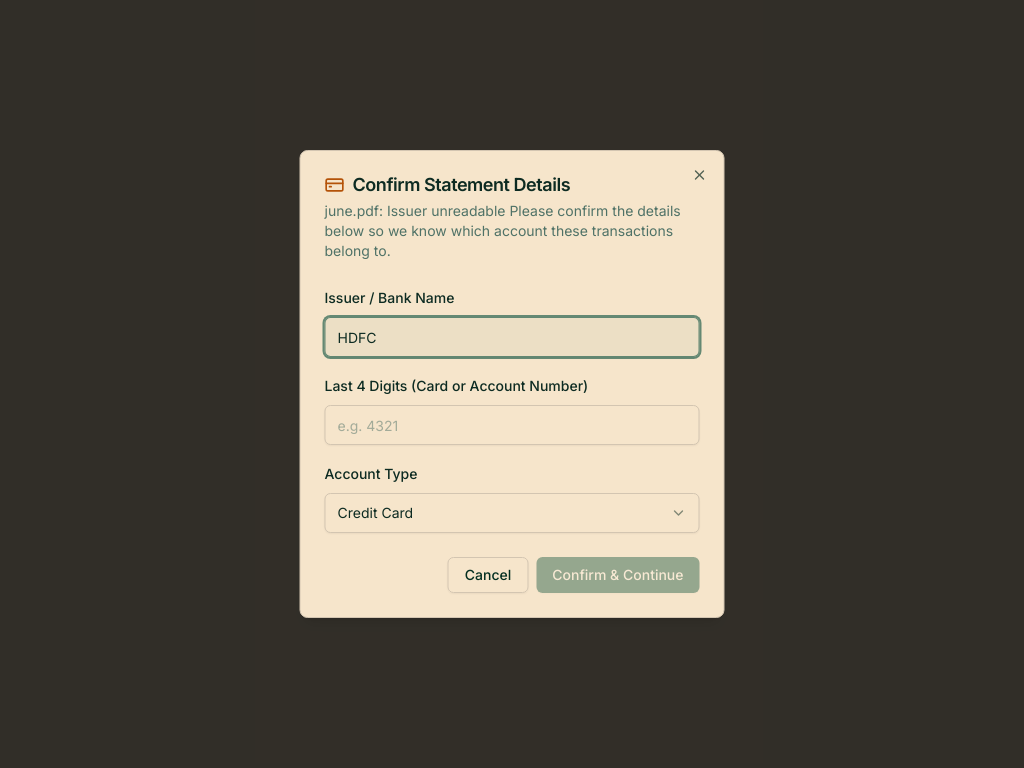
it: InstrumentGateDialog › strips non-digits out of the last-4 field
The image size is (1024, 768).
Type "ab12cd34" into the field labelled "Last 4 Digits (Card or Account Number)".
click(512, 425); type("ab12cd34")  # box left=324, top=405, right=700, bottom=445
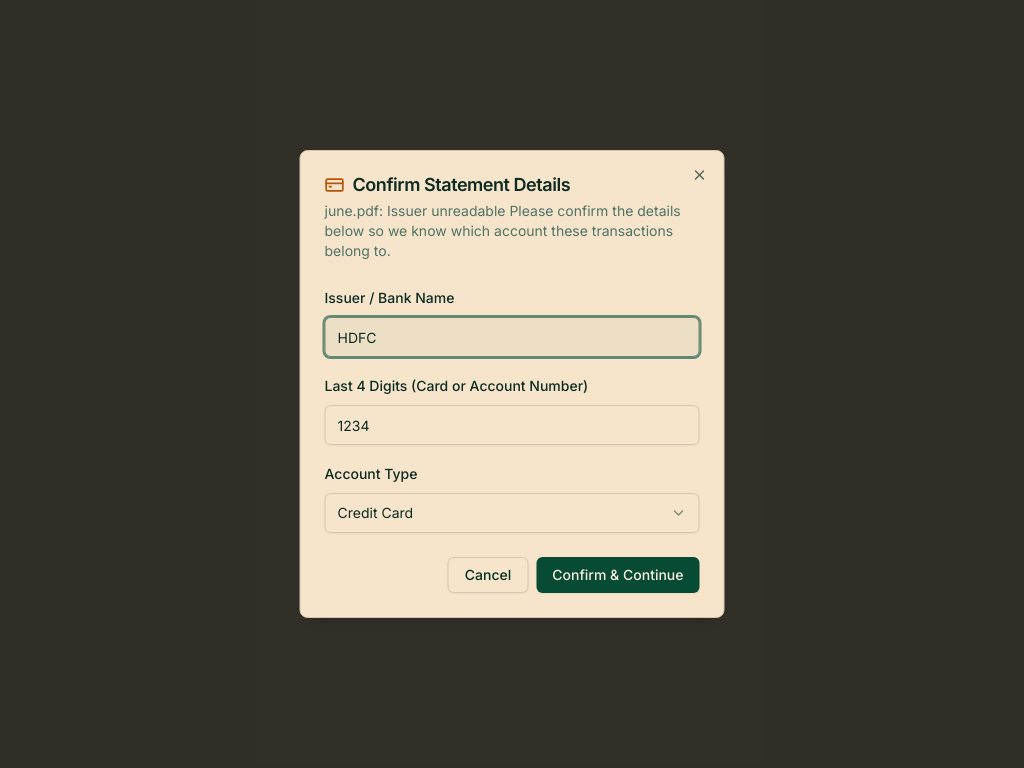
Expected: the field labelled "Last 4 Digits (Card or Account Number)" holds "1234", left=324, top=405, right=700, bottom=445
